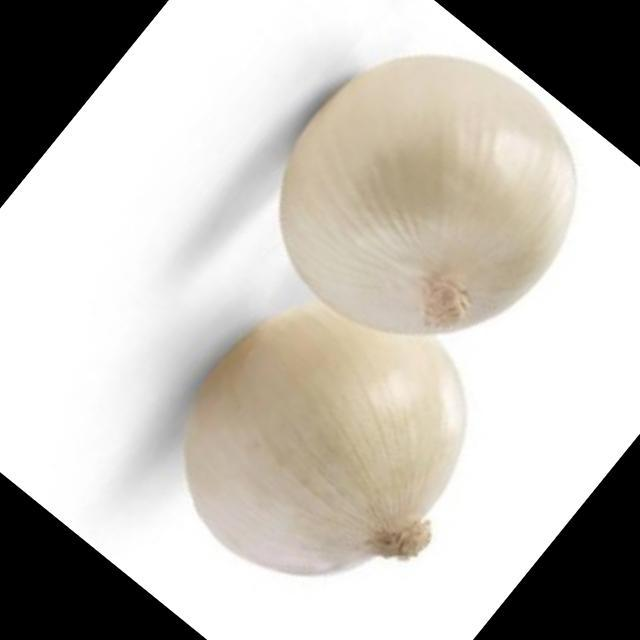Onion: (280, 61, 574, 335), (182, 316, 471, 578)
